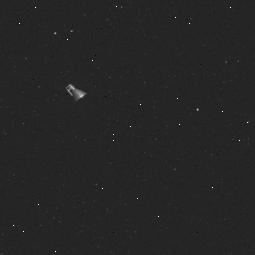debris: (60, 78, 90, 108)
